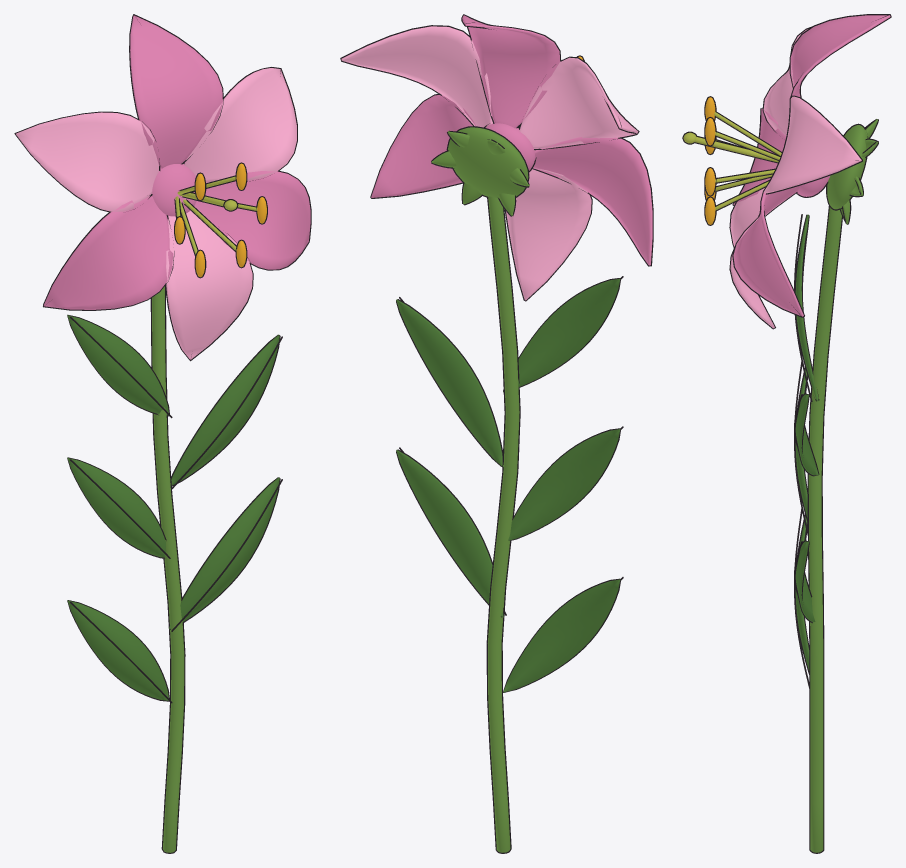
File: lily_pink.glb
The picture shows the model from 3 angles, left to right: view 1: azimuth 30°, elevation 25°; view 2: azimuth 150°, elevation 25°; view 3: azimuth 270°, elevation 25°; orthographic projection. The views are drawn at different scales.
Visible parts, largest first — view 1: lily_Geometry; view 2: lily_Geometry; view 3: lily_Geometry.
Part boxes in pixels (left/top/right/bottom): lily_Geometry: left=14, top=14, right=311, bottom=853; lily_Geometry: left=340, top=14, right=653, bottom=853; lily_Geometry: left=682, top=14, right=891, bottom=853.
Bounding box in the file's own units: 0.1882 × 0.5472 × 0.124.
